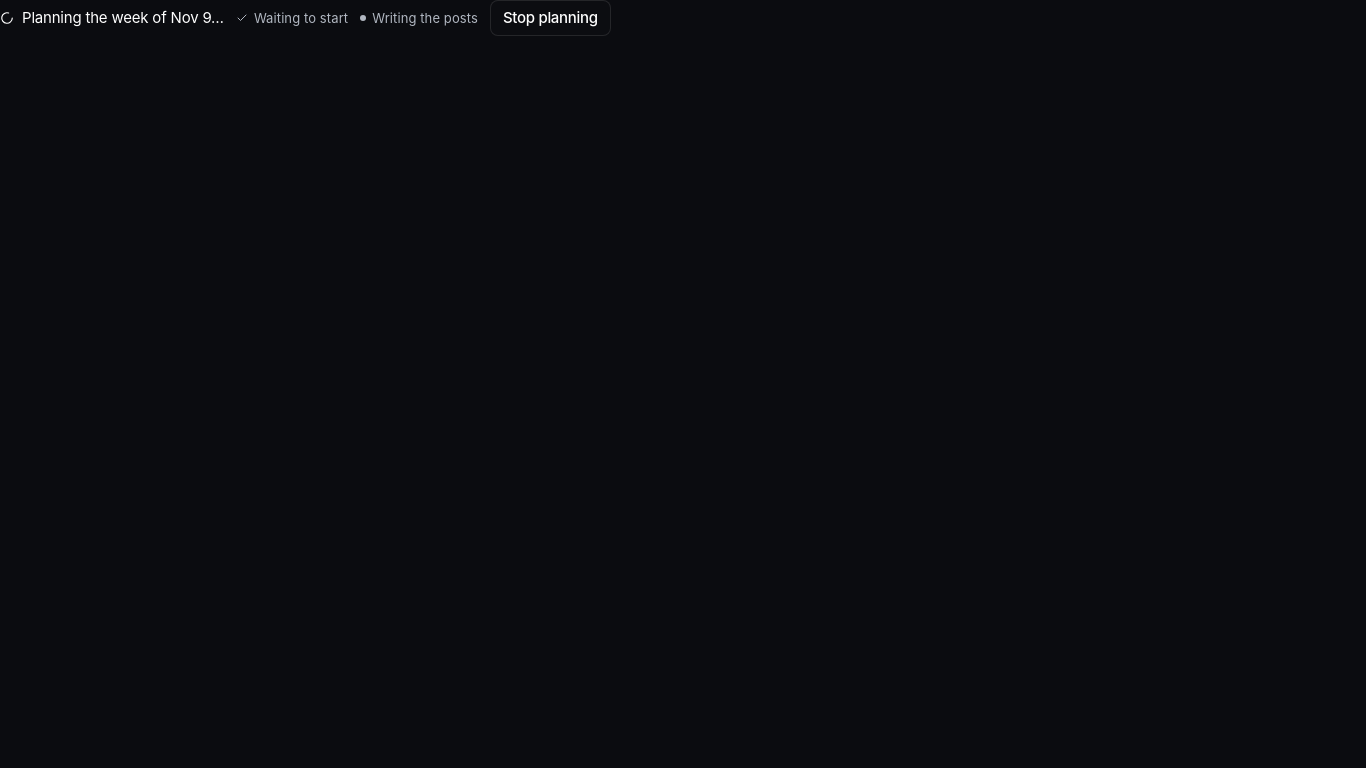
the week band › shows the planning with its progress, and stops it after a question
Later steps or results of the test are not shown.
Expected: the text "Planning the week of Nov 9…" is shown, [0, 6, 224, 30]
Click the button "Stop planning" at (550, 18), box [490, 0, 611, 36]
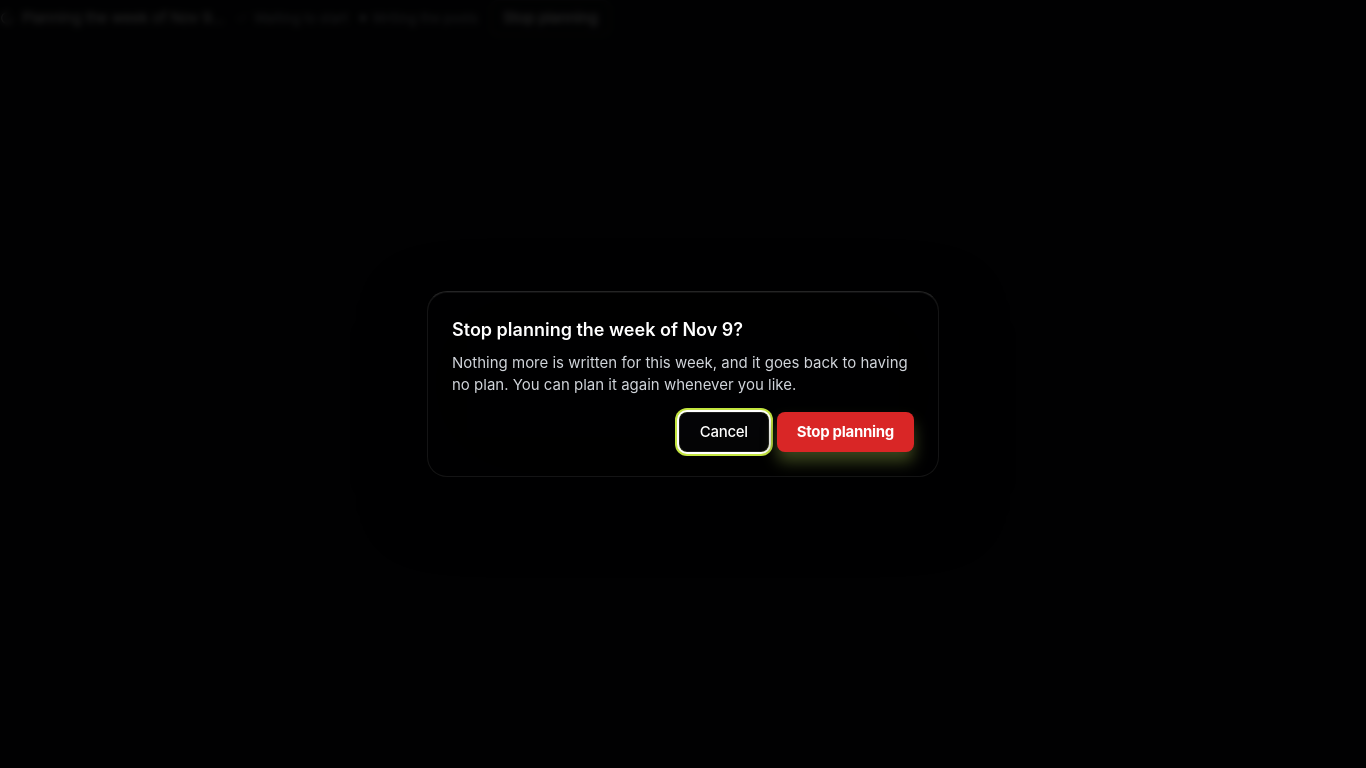
Result: the heading "Stop planning the week of Nov 9?" is shown at [452, 319, 743, 340]
